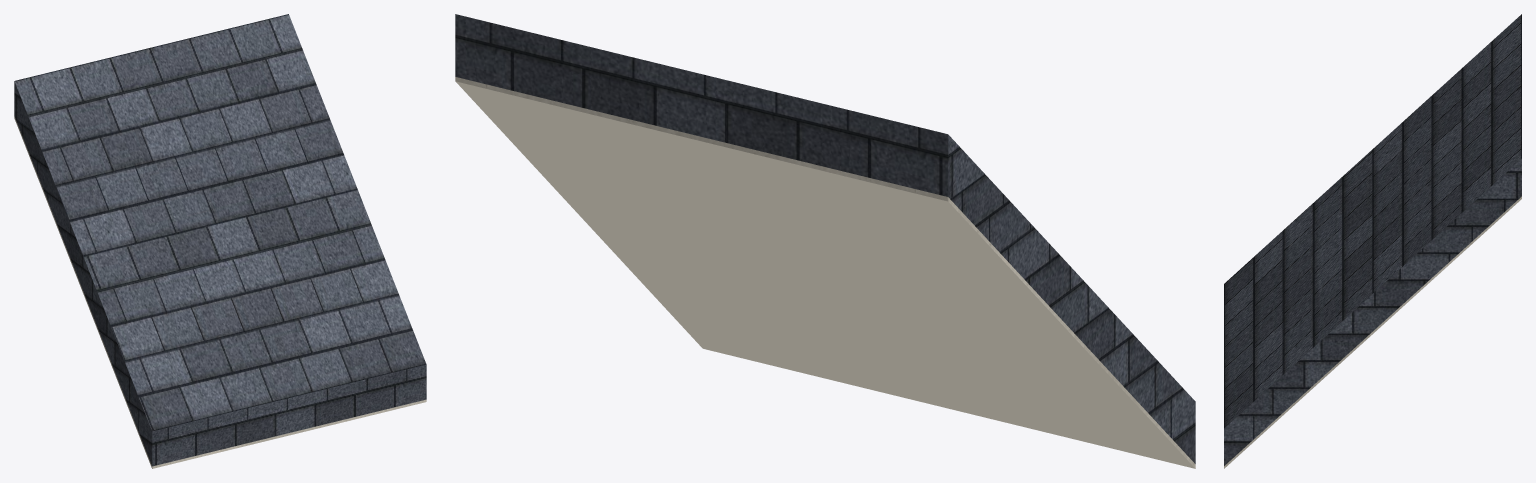
File: roof_valley_end_g.glb
The picture shows the model from 3 angles, left to right: view 1: azimuth 30°, elevation 25°; view 2: azimuth 150°, elevation 25°; view 3: azimuth 270°, elevation 25°; orthographic projection. The views are drawn at different scales.
Parts seen in each view (by area): view 1: roof_valley_end_g_shingle_g, roof_valley_end_g_plaster; view 2: roof_valley_end_g_plaster, roof_valley_end_g_shingle_g; view 3: roof_valley_end_g_shingle_g, roof_valley_end_g_plaster.
Part boxes in pixels (x1=…): roof_valley_end_g_shingle_g: x1=14, y1=14, x2=426, y2=466; roof_valley_end_g_plaster: x1=14, y1=116, x2=426, y2=468; roof_valley_end_g_plaster: x1=455, y1=77, x2=1195, y2=468; roof_valley_end_g_shingle_g: x1=455, y1=14, x2=1195, y2=463; roof_valley_end_g_shingle_g: x1=1224, y1=14, x2=1521, y2=465; roof_valley_end_g_plaster: x1=1224, y1=196, x2=1521, y2=468.
Size of the model in its own units: 2.3 by 2.3 by 2.
2 materials, 2 textured.
